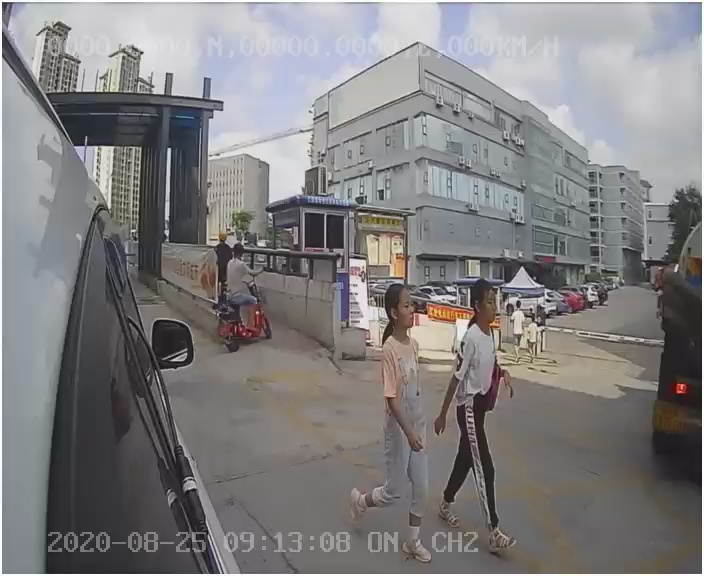person: (431, 279, 548, 534), (348, 283, 443, 541)
